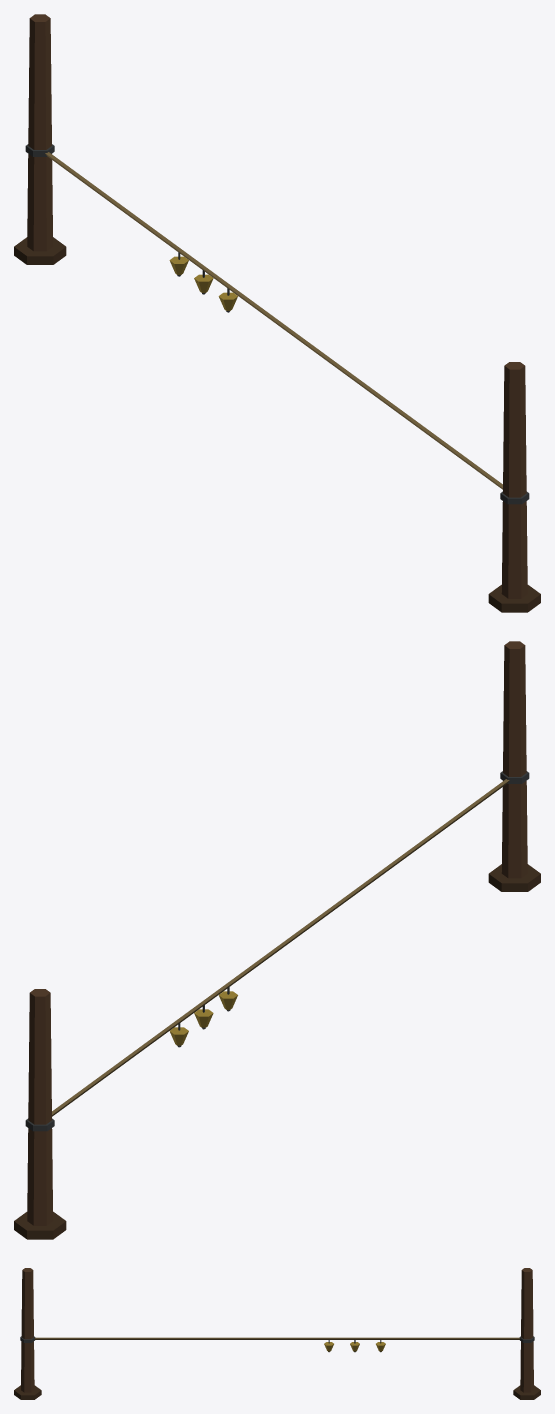
File: trap_tripwire.glb
The picture shows the model from 3 angles, top to bottom: view 1: azimuth 30°, elevation 25°; view 2: azimuth 150°, elevation 25°; view 3: azimuth 270°, elevation 25°; orthographic projection. The views are drawn at different scales.
Parts seen in each view (by area): view 1: Posts, Wire, Bells; view 2: Posts, Wire, Bells; view 3: Posts, Wire, Bells.
Part boxes in pixels (bbox=[...]): Posts: bbox=[14, 14, 540, 612]; Wire: bbox=[45, 152, 502, 489]; Bells: bbox=[169, 252, 237, 312]; Posts: bbox=[14, 641, 540, 1239]; Wire: bbox=[52, 779, 509, 1116]; Bells: bbox=[169, 986, 237, 1047]; Posts: bbox=[14, 1268, 540, 1399]; Wire: bbox=[34, 1337, 520, 1339]; Bells: bbox=[324, 1339, 385, 1352].
Bounding box in the file's own units: 0.1386 × 0.8 × 3.06.
